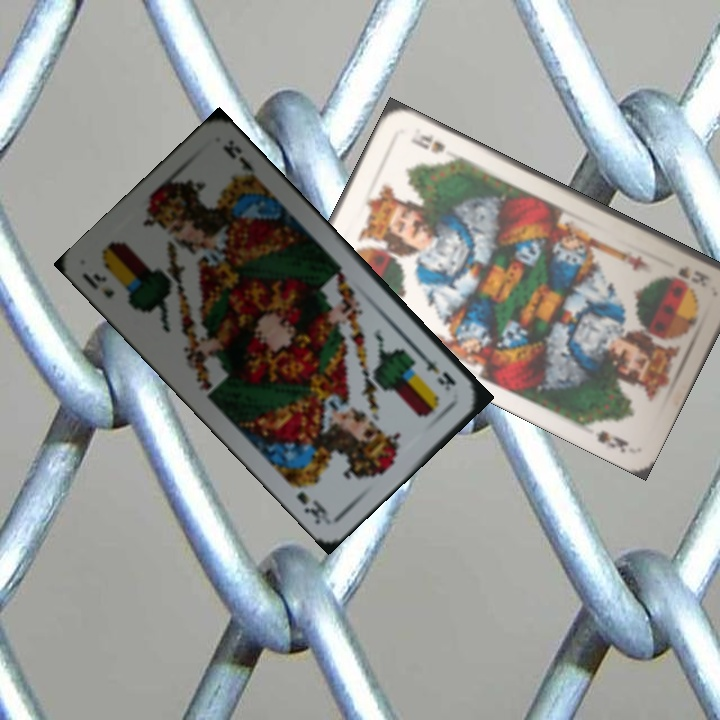EK: (416, 349, 459, 394), (78, 269, 117, 302)
SK: (674, 262, 713, 285)
